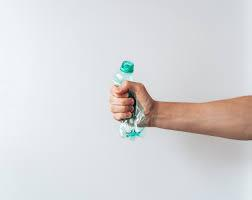BIODEGRADABLE: (106, 57, 153, 143)
